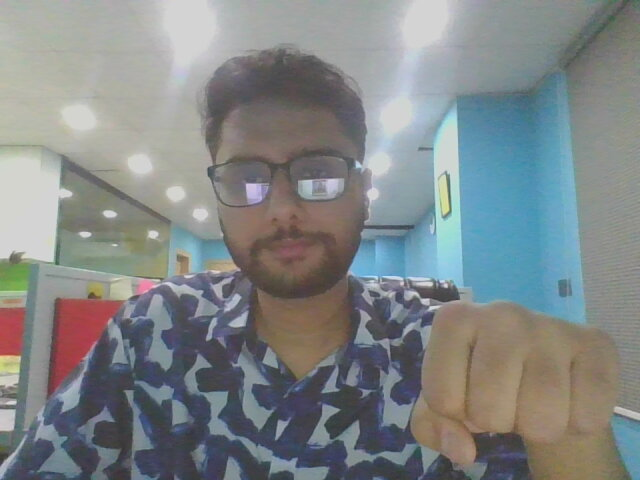yes: (402, 286, 640, 480)
